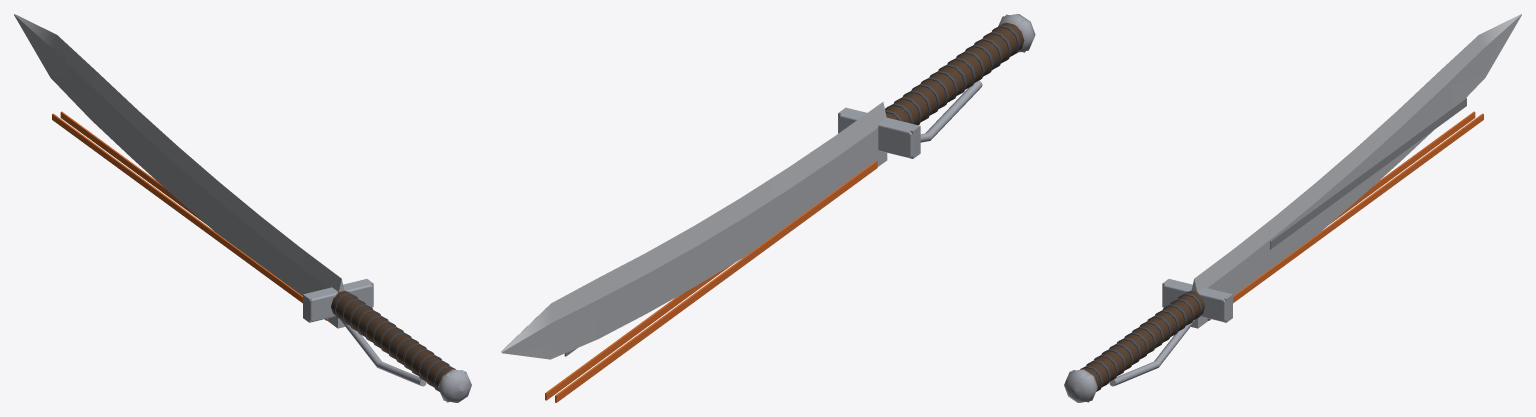
Rendered from m_cutlass.glb.
3 views of the same model, side by side, from view 1: azimuth 30°, elevation 25°; view 2: azimuth 150°, elevation 25°; view 3: azimuth 330°, elevation 25° (orthographic). The views are drawn at different scales.
Visible parts, largest first — view 1: L0, L1; view 2: L0, L1; view 3: L0, L1.
Boxes of the visible parts, box(x1,y1,x2,y2) form: L0: box(14, 14, 471, 402); L1: box(303, 279, 470, 402); L0: box(501, 14, 1035, 402); L1: box(838, 14, 1026, 158); L0: box(1064, 14, 1521, 402); L1: box(1065, 279, 1232, 402).
Size of the model in its own units: 0.068 by 0.0985 by 0.8199.
